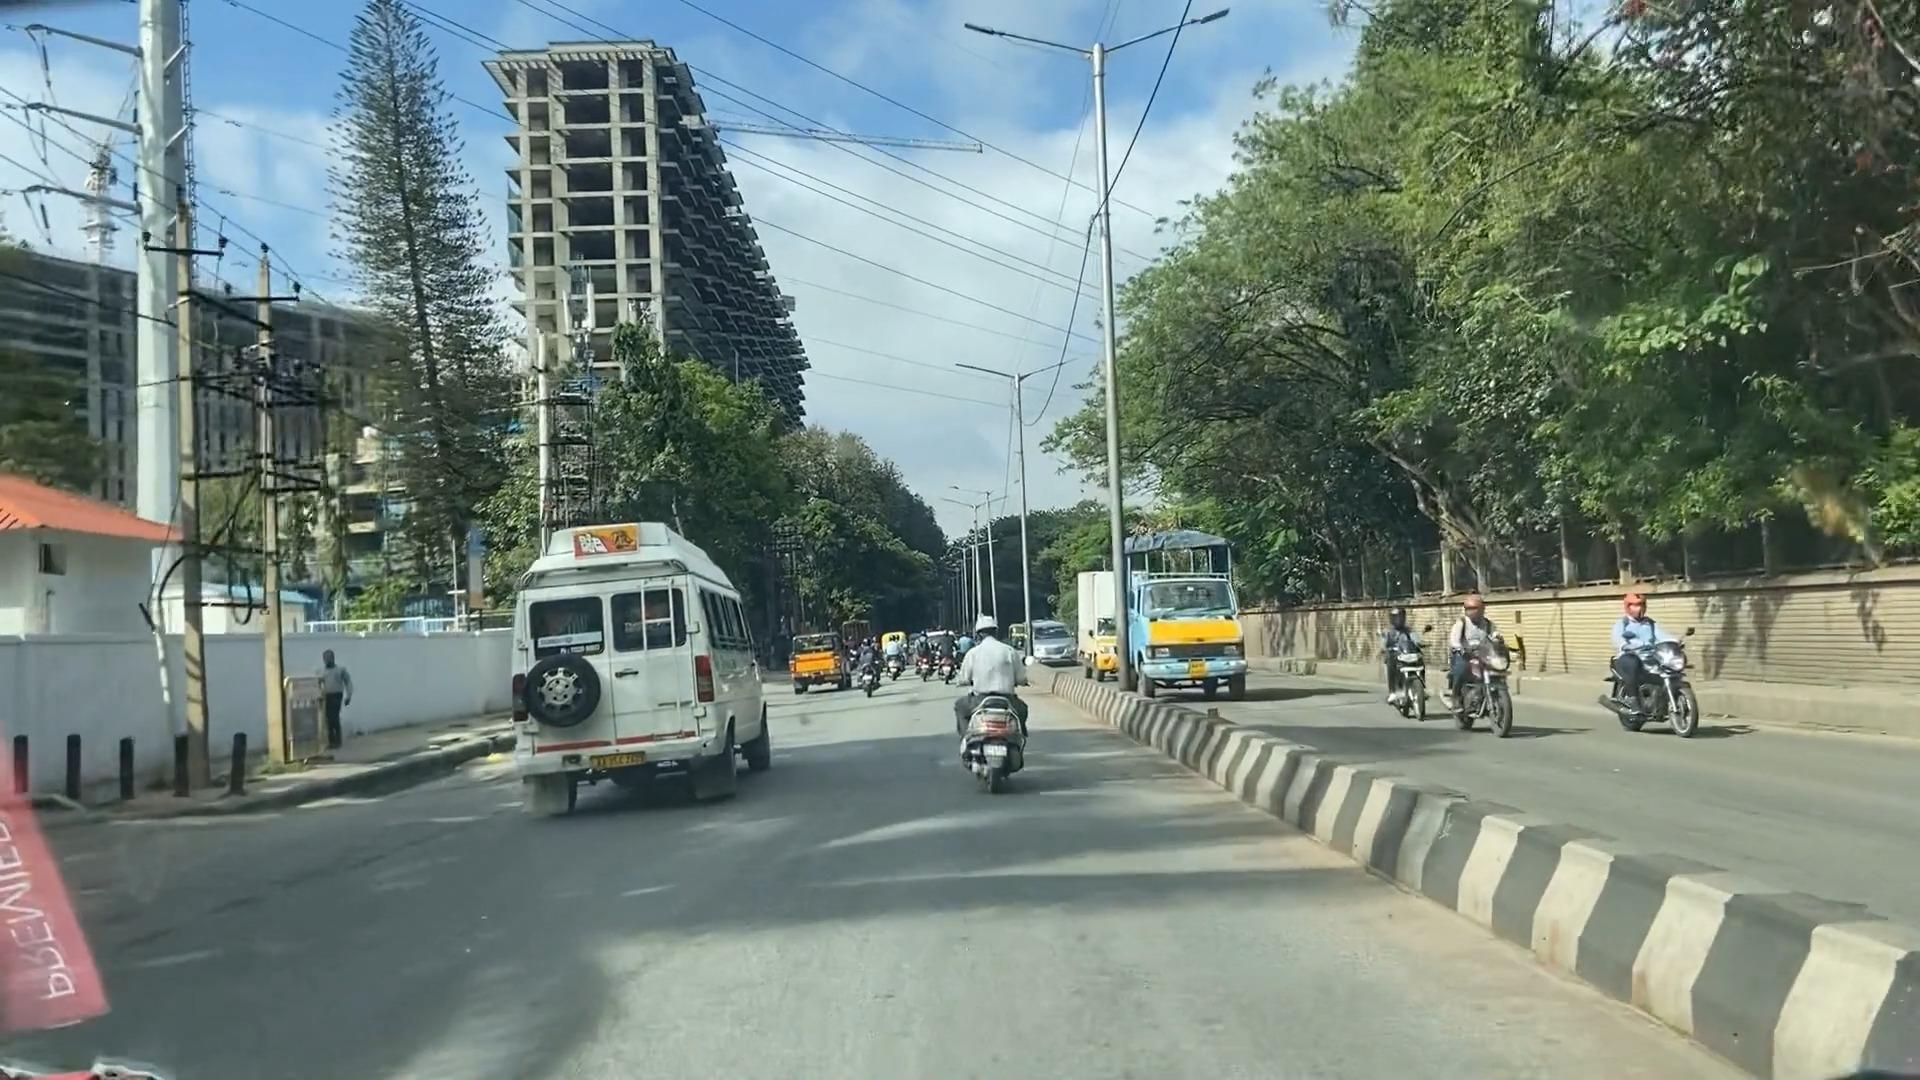HMV: (496, 510, 790, 816)
LMV: (926, 603, 1043, 778)
